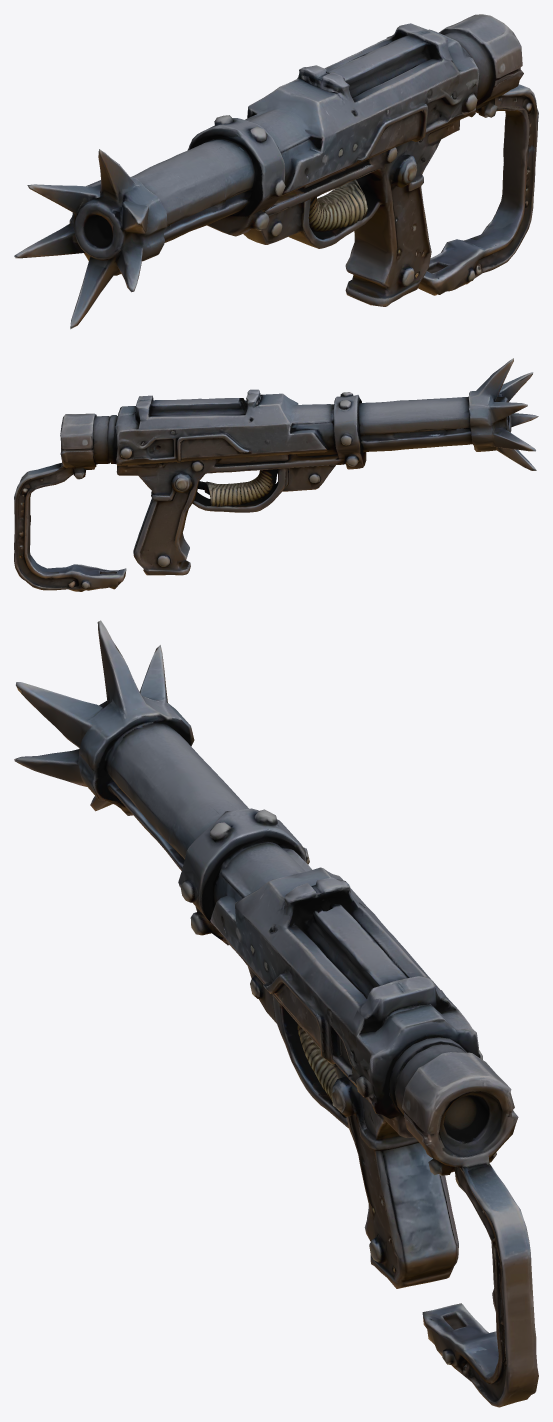
Rendered from hook.glb.
The picture shows the model from 3 angles, top to bottom: view 1: azimuth 30°, elevation 25°; view 2: azimuth 150°, elevation 25°; view 3: azimuth 270°, elevation 25°; orthographic projection. The views are drawn at different scales.
Parts seen in each view (by area): view 1: tripo_node_60288b4c-a8a4-4455-8136-346f2409be25; view 2: tripo_node_60288b4c-a8a4-4455-8136-346f2409be25; view 3: tripo_node_60288b4c-a8a4-4455-8136-346f2409be25.
Part boxes in pixels (x1,y1,x2,y2): tripo_node_60288b4c-a8a4-4455-8136-346f2409be25: (14,14,538,329); tripo_node_60288b4c-a8a4-4455-8136-346f2409be25: (14,358,538,591); tripo_node_60288b4c-a8a4-4455-8136-346f2409be25: (14,620,538,1407).
Size of the model in its own units: 0.897 by 0.48 by 0.5062.
Materials: 1 (1 with a texture image).
